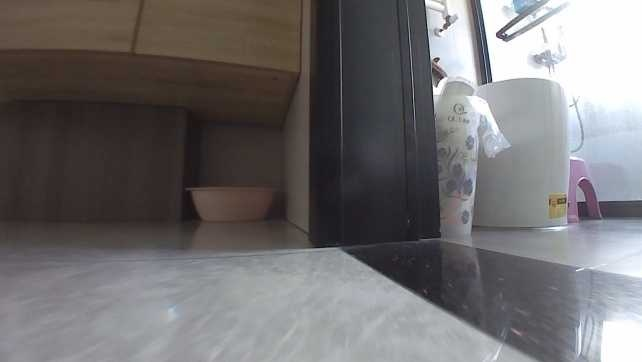plastic_stool: (563, 155, 606, 220)
toilet: (436, 75, 572, 228)
